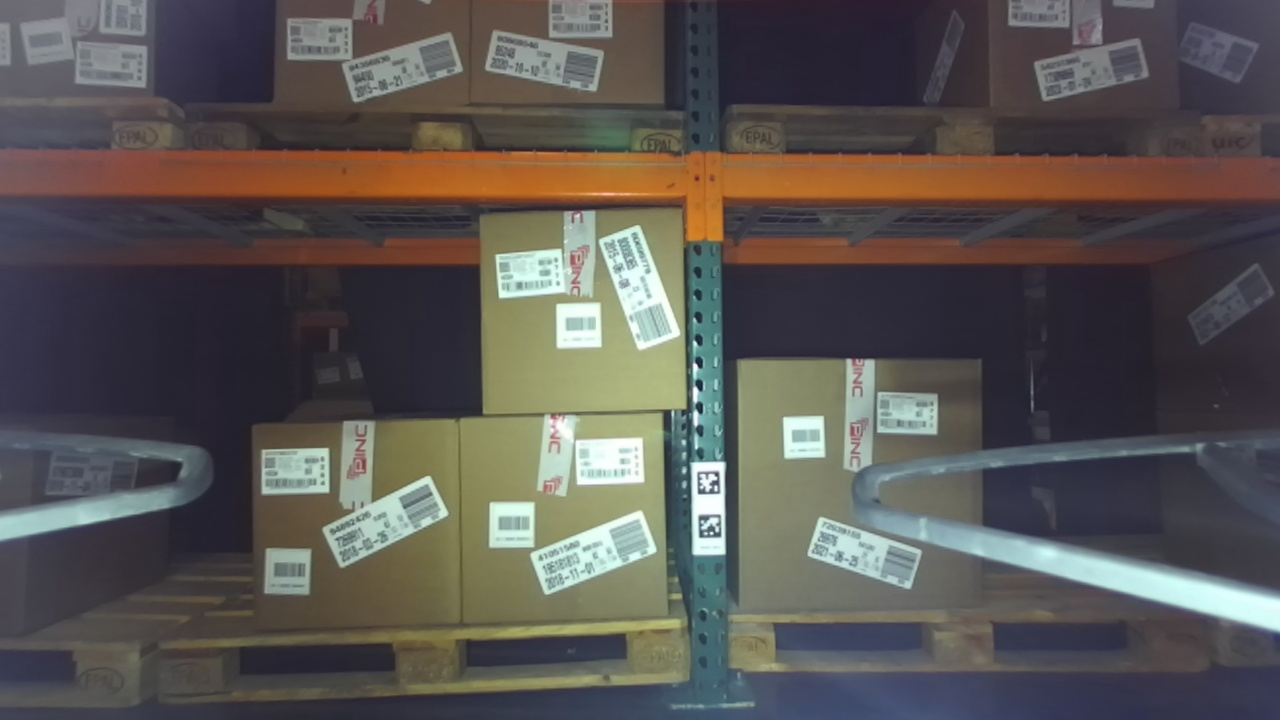box: (718, 332, 994, 612), (234, 400, 481, 652), (446, 390, 690, 635), (467, 191, 700, 428)
